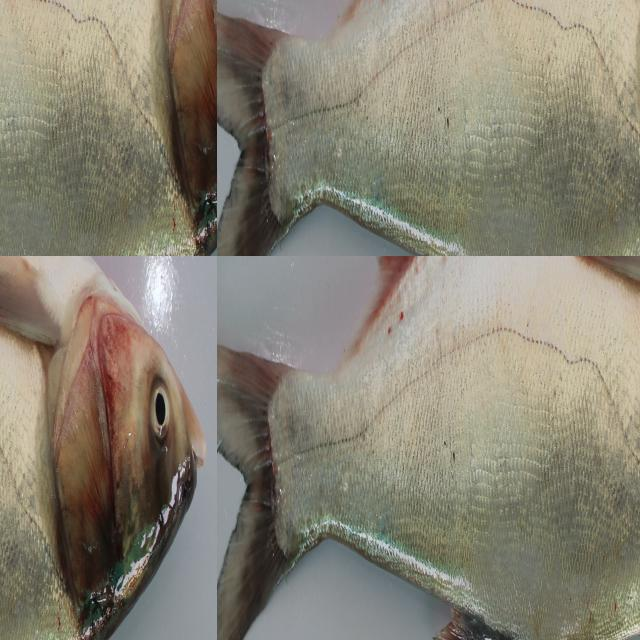fish: (217, 256, 640, 634), (0, 256, 217, 640)
